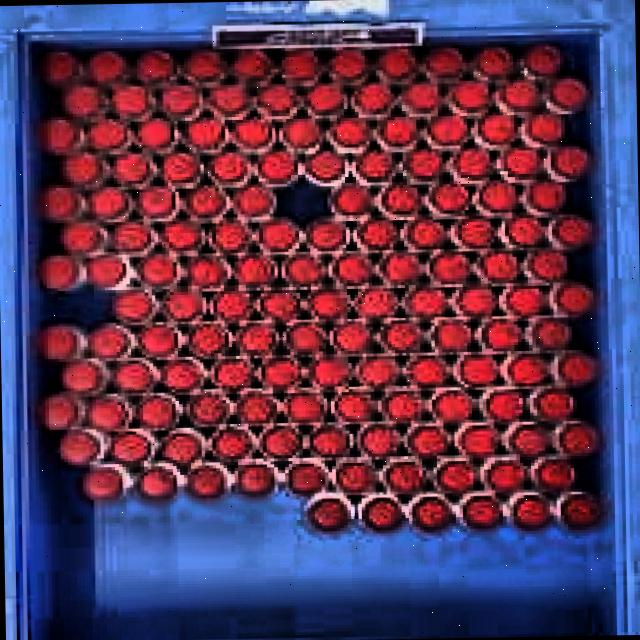vial: (59, 83, 107, 119), (34, 395, 81, 431), (79, 465, 126, 501), (85, 184, 131, 220), (84, 397, 130, 433), (109, 431, 152, 468), (82, 254, 127, 289), (525, 317, 571, 351), (450, 144, 491, 182), (206, 218, 249, 254), (158, 81, 202, 116), (109, 289, 153, 324), (135, 394, 180, 428), (137, 323, 182, 357), (526, 246, 571, 280), (56, 222, 101, 256), (37, 323, 77, 361), (548, 73, 590, 109), (60, 150, 102, 186), (454, 283, 497, 318), (132, 116, 175, 151), (206, 80, 249, 115), (400, 147, 444, 181), (257, 148, 297, 185), (458, 421, 499, 457), (158, 149, 199, 185), (58, 429, 99, 465), (279, 114, 321, 149), (328, 113, 370, 148), (36, 255, 78, 290), (480, 319, 523, 353), (206, 150, 249, 184), (59, 359, 102, 393), (37, 116, 76, 153), (552, 143, 592, 179), (109, 222, 154, 254), (558, 421, 599, 456), (506, 352, 547, 387), (108, 83, 149, 118), (478, 250, 520, 284), (110, 360, 152, 394), (406, 425, 449, 458), (406, 354, 449, 387), (158, 359, 201, 392), (429, 252, 472, 285), (183, 116, 226, 149), (404, 219, 448, 251), (283, 253, 322, 289), (533, 387, 574, 421), (187, 323, 228, 357), (255, 82, 296, 116), (88, 324, 129, 358), (482, 390, 524, 423), (455, 354, 497, 387), (429, 180, 471, 213), (180, 49, 226, 79), (210, 428, 253, 460), (135, 255, 178, 287), (354, 80, 393, 115), (40, 185, 79, 220), (111, 150, 150, 185), (256, 221, 300, 252), (308, 497, 348, 531), (306, 148, 346, 182), (232, 116, 272, 150), (135, 184, 175, 218), (560, 351, 601, 384), (186, 393, 227, 426), (303, 81, 344, 114), (83, 50, 124, 83), (212, 357, 254, 389), (505, 215, 547, 247), (533, 458, 576, 489), (430, 392, 473, 423), (553, 282, 591, 317), (511, 495, 550, 529), (286, 461, 325, 495), (236, 461, 275, 495), (333, 321, 372, 355), (357, 148, 396, 182), (500, 76, 539, 110), (404, 288, 448, 318), (479, 179, 519, 212), (478, 111, 518, 144), (308, 426, 349, 458), (355, 355, 396, 387), (552, 215, 593, 247), (327, 48, 368, 80), (86, 118, 127, 150), (378, 46, 416, 80), (234, 49, 272, 83), (410, 496, 449, 529), (562, 495, 601, 528), (160, 431, 199, 464), (260, 355, 299, 388), (331, 184, 370, 217), (428, 114, 467, 147), (281, 47, 320, 80), (136, 48, 175, 81), (360, 497, 400, 529), (334, 390, 374, 422), (159, 219, 199, 251), (472, 45, 512, 77), (233, 254, 274, 285), (137, 468, 179, 498), (386, 461, 423, 495), (261, 425, 298, 459), (402, 79, 439, 113), (286, 391, 324, 424), (187, 185, 225, 218), (185, 465, 224, 497), (382, 321, 421, 353), (355, 218, 394, 250), (185, 256, 224, 288), (502, 144, 541, 176), (377, 115, 416, 147), (309, 356, 349, 387), (379, 183, 420, 213), (512, 424, 546, 460), (43, 50, 77, 86), (360, 424, 397, 457), (382, 391, 419, 424), (378, 254, 420, 283), (237, 323, 275, 355), (308, 289, 347, 320), (528, 180, 568, 210), (237, 392, 273, 425), (355, 288, 399, 315), (426, 45, 462, 78), (434, 461, 471, 493), (463, 495, 501, 526), (505, 285, 543, 316), (456, 216, 494, 247), (164, 291, 202, 322), (524, 42, 564, 71), (431, 321, 467, 353), (452, 80, 489, 111), (260, 290, 298, 320), (212, 291, 250, 321), (336, 462, 372, 493), (526, 113, 564, 142), (238, 185, 272, 217), (287, 324, 323, 354), (486, 460, 520, 491), (334, 256, 369, 285), (310, 223, 345, 251)
